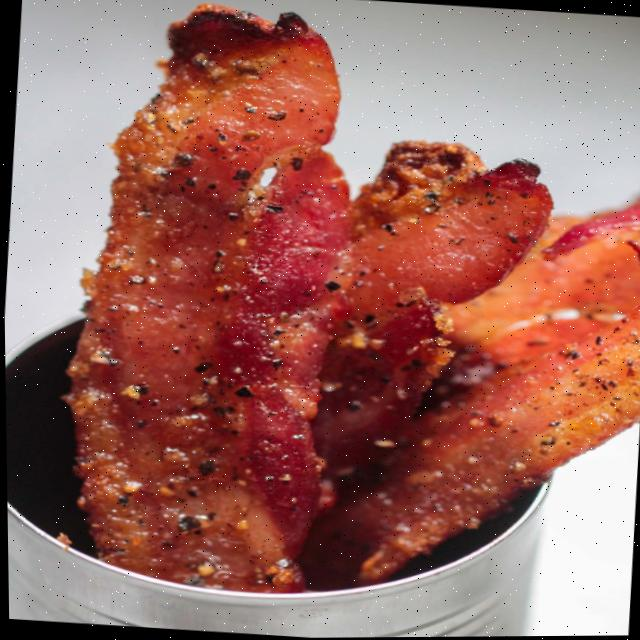Bacon: (66, 5, 350, 592), (299, 306, 640, 587), (310, 141, 551, 487)
